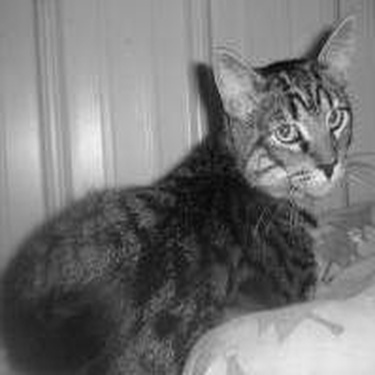cat: (6, 16, 354, 370)
